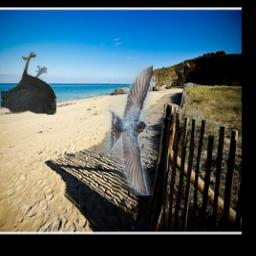Crow: (1, 53, 56, 116)
Swallow: (103, 65, 153, 196)
